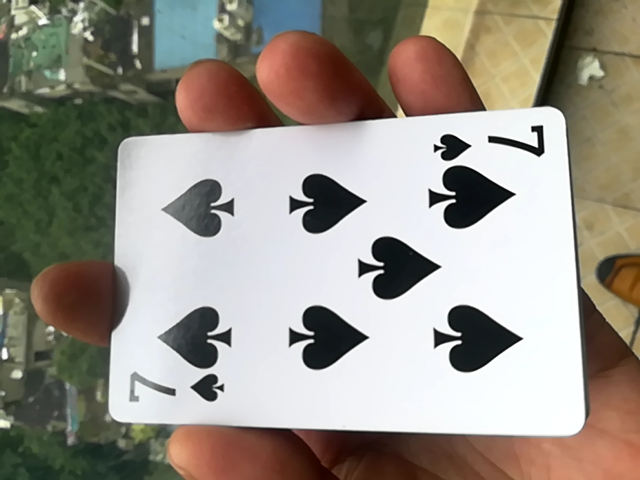ht 7: (96, 110, 579, 448)
